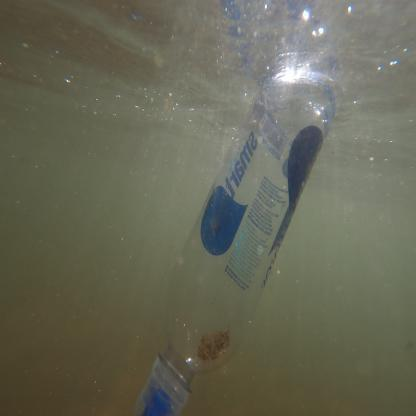Rác: (135, 50, 344, 404)
